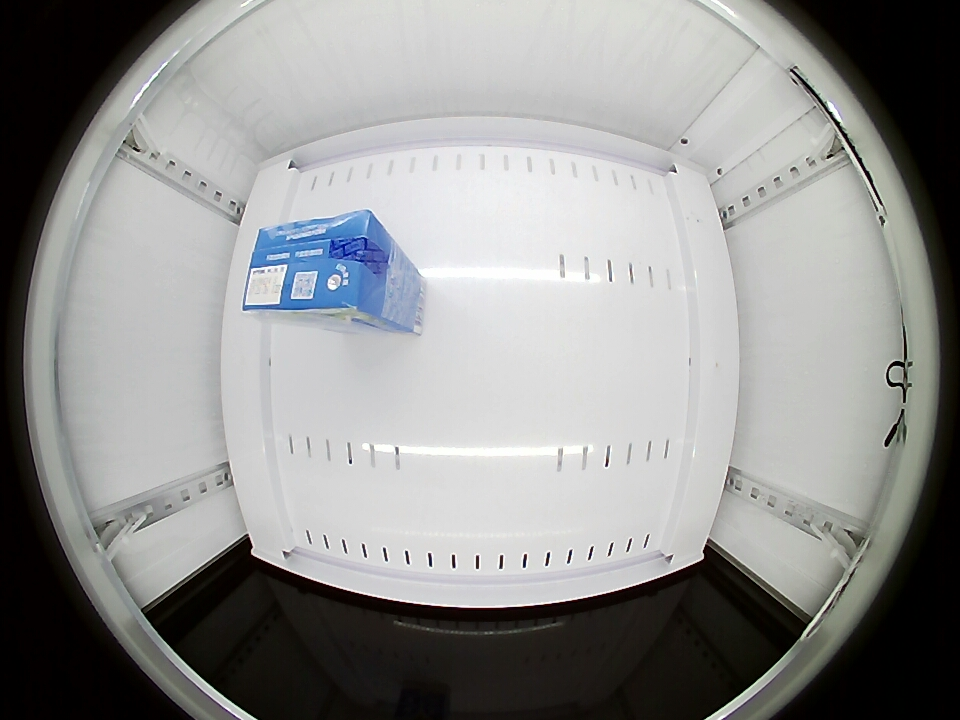weitanai: (240, 210, 392, 318)
